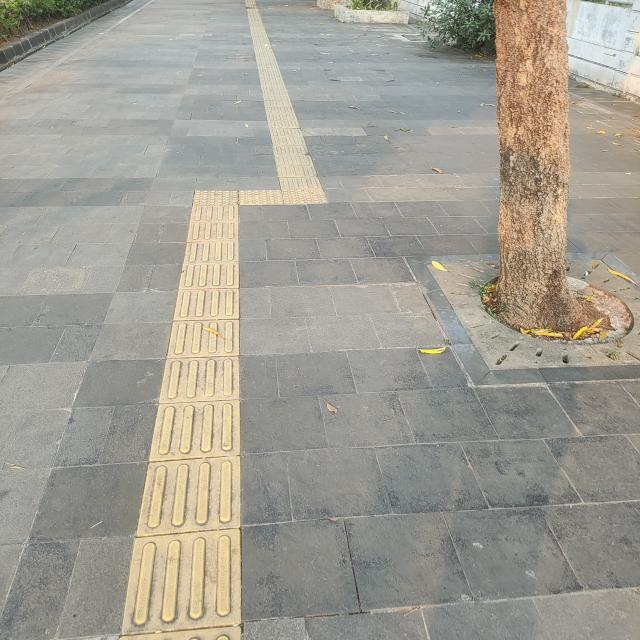lurus: (131, 227, 252, 640), (238, 22, 322, 180)
